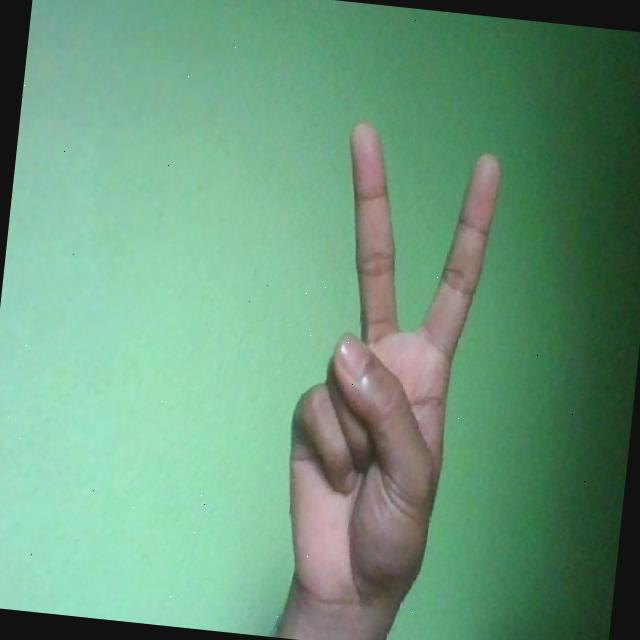Fist: (272, 116, 510, 628)
